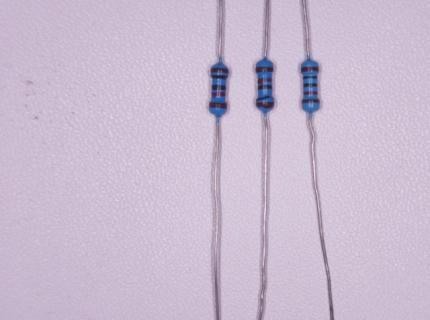Black band: (256, 96, 273, 101), (212, 85, 226, 90), (304, 83, 317, 88), (258, 86, 272, 90), (212, 76, 227, 79), (304, 76, 317, 79)
Brown band: (257, 102, 274, 109), (209, 103, 227, 109), (211, 68, 229, 73), (301, 67, 319, 72), (256, 67, 273, 72), (302, 99, 319, 103)
Red band: (257, 79, 272, 84), (212, 92, 226, 97), (304, 91, 318, 95)
